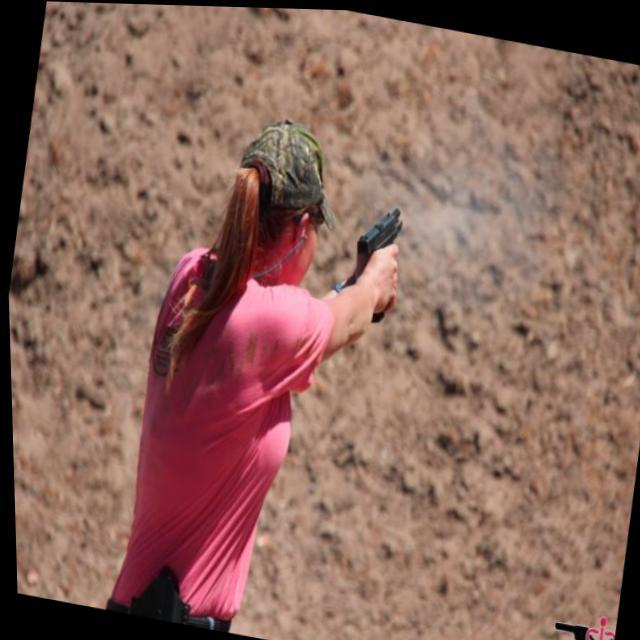weapon: (340, 193, 413, 328)
